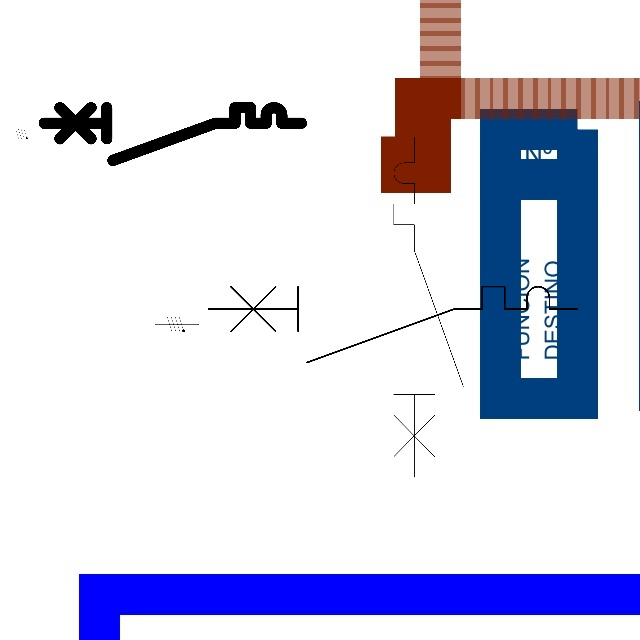interruptor_termomagnetico: (198, 277, 586, 372), (385, 128, 472, 486), (37, 101, 308, 167)
